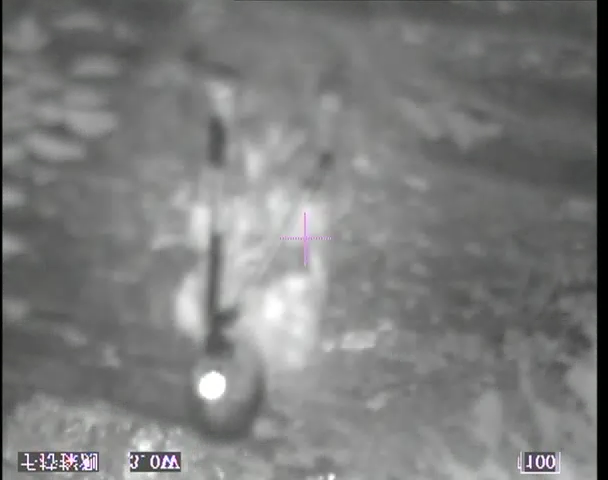my: (199, 368, 230, 400)
